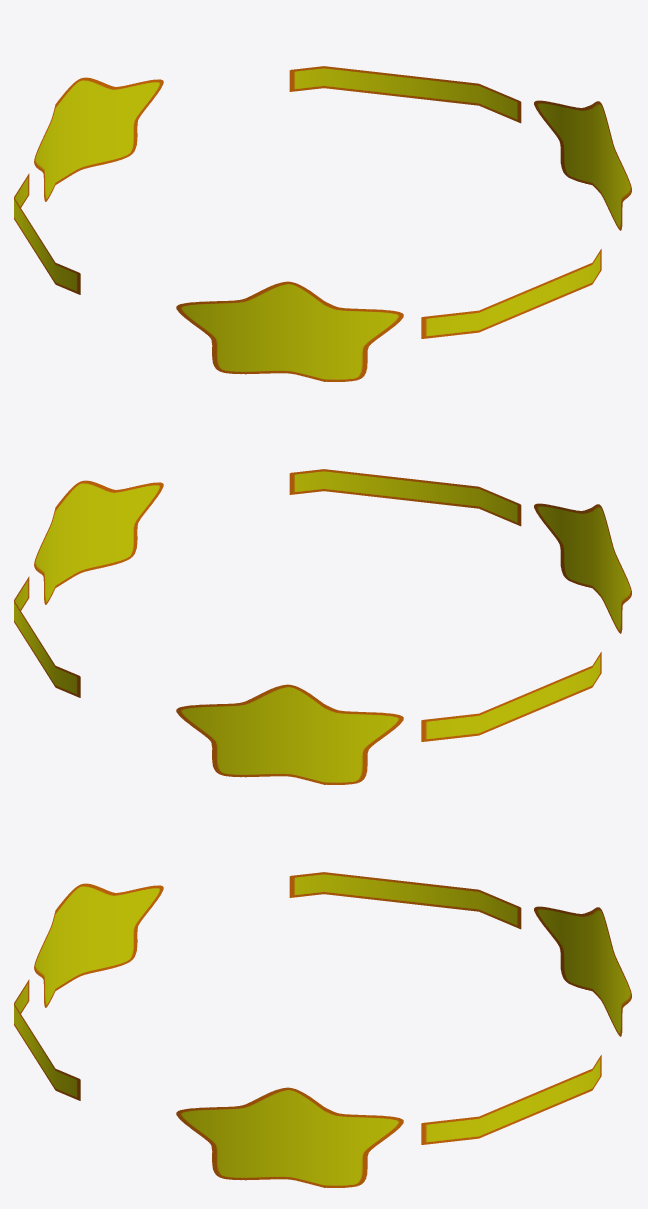
File: Star.FBX
The picture shows the model from 3 angles, top to bottom: view 1: azimuth 30°, elevation 25°; view 2: azimuth 150°, elevation 25°; view 3: azimuth 270°, elevation 25°; orthographic projection.
Visible parts, largest first — view 1: Tube001; view 2: Tube001; view 3: Tube001.
Boxes of the visible parts, x1,y1,x2,y2 form: Tube001: [14, 66, 631, 381]; Tube001: [14, 469, 631, 784]; Tube001: [14, 872, 631, 1187].
Size of the model in its own units: 250 by 50 by 250.
Materials: 1 (1 with a texture image).
